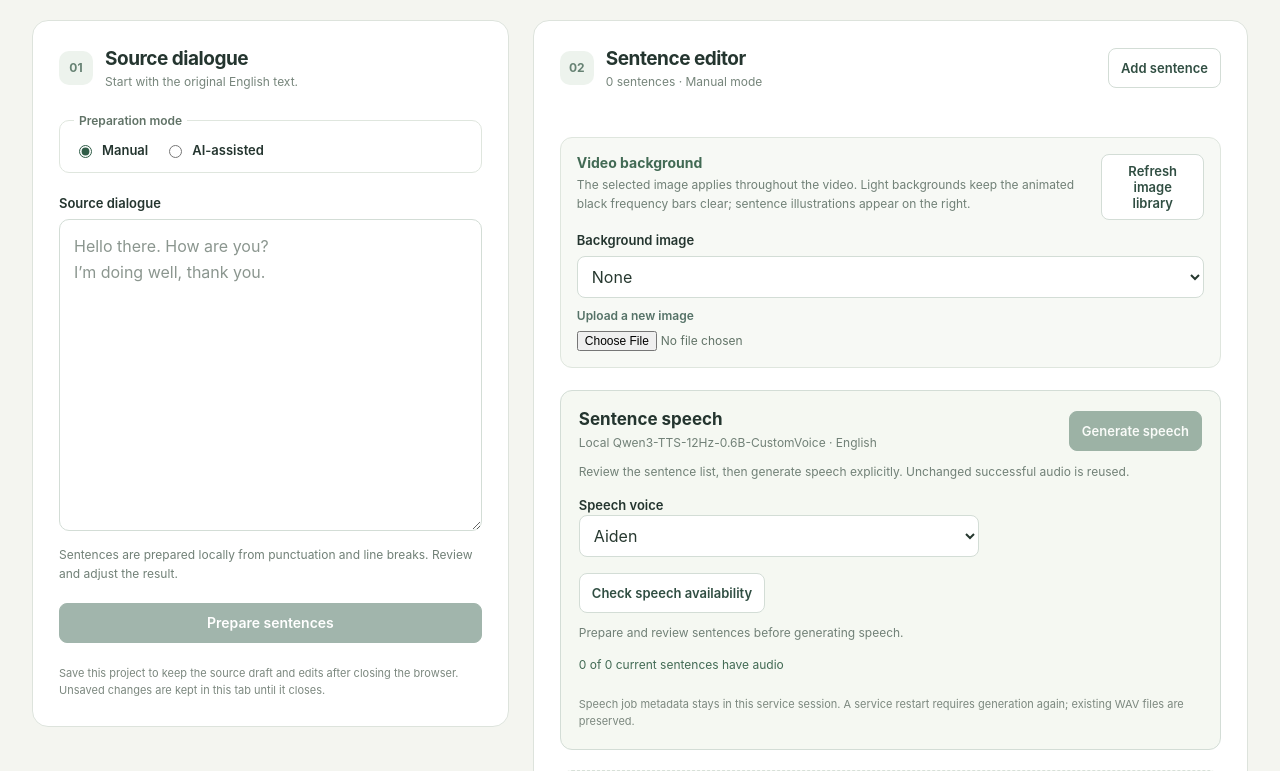
it: sentence speech UI › keeps an unconfirmed project submission resumable and ignores its late result
(page scrolled)
Step 1. Type "Hello. Next." into the text box labelled "Source dialogue" → (270, 375), box [59,219,482,530]
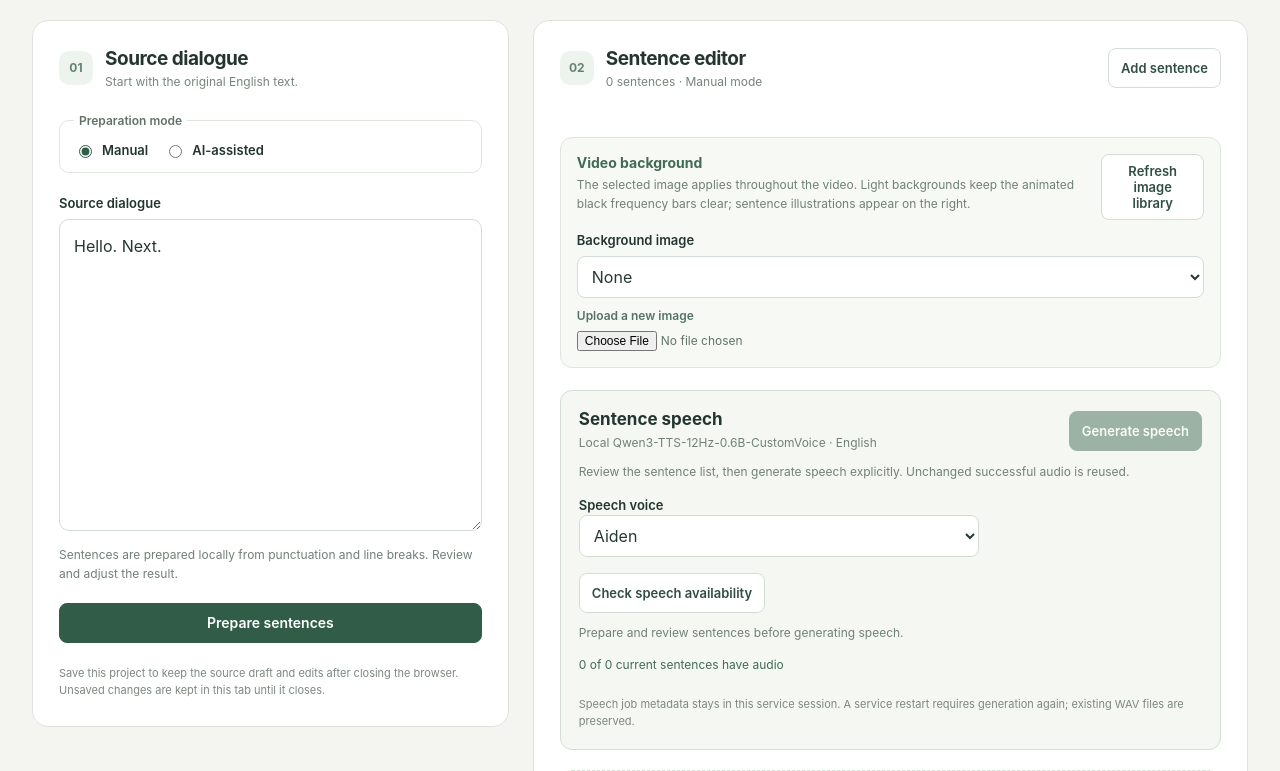
Step 2. Click the button "Prepare sentences" → (270, 623), box [59,603,482,643]
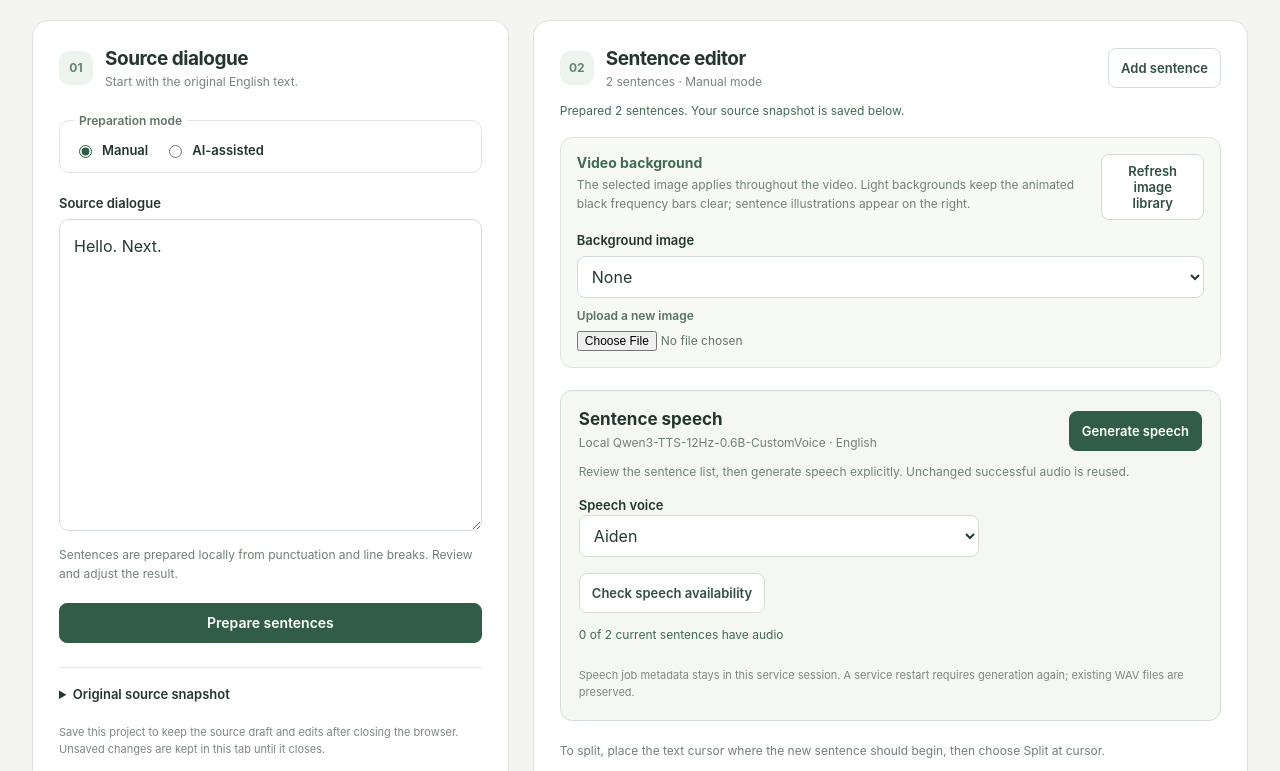
Step 3. Click the button "Generate speech" → (1135, 431), box [1069,411,1202,451]
(page scrolled)
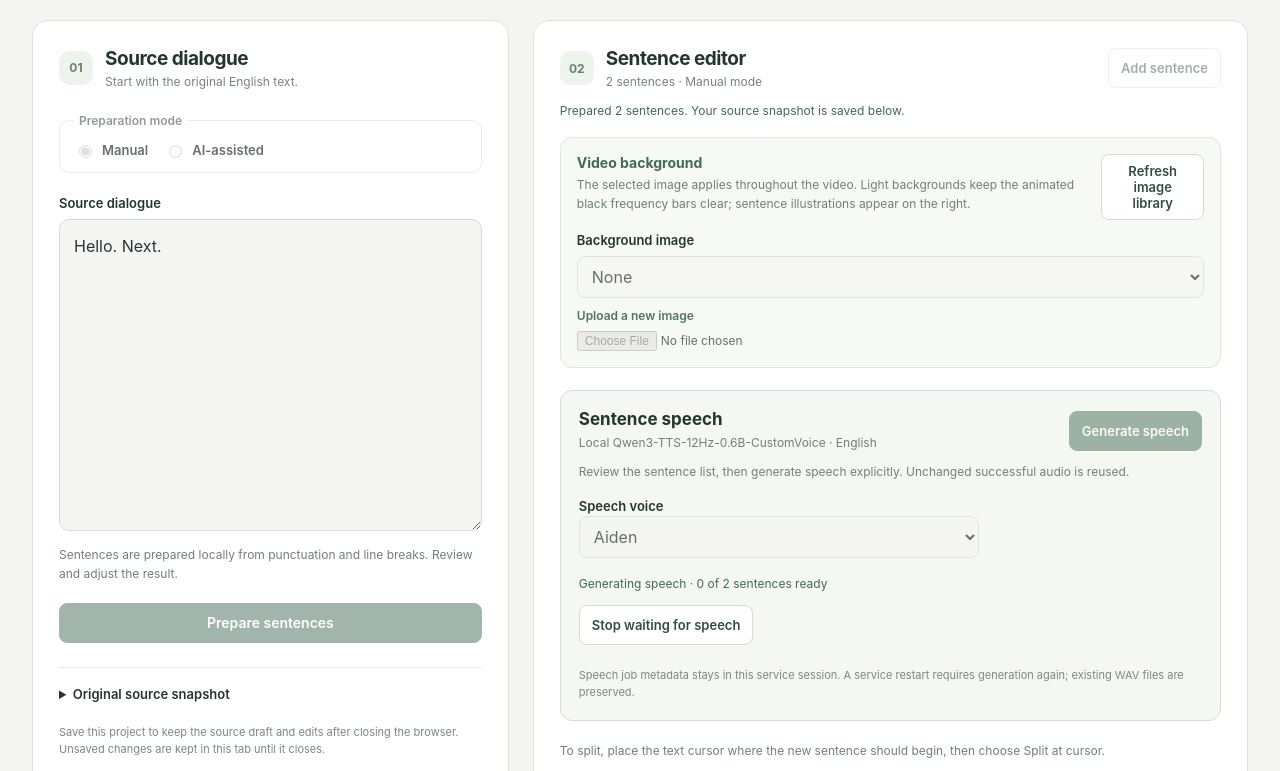
Step 4. Click the button "Stop waiting for speech" → (666, 625), box [579,605,753,645]
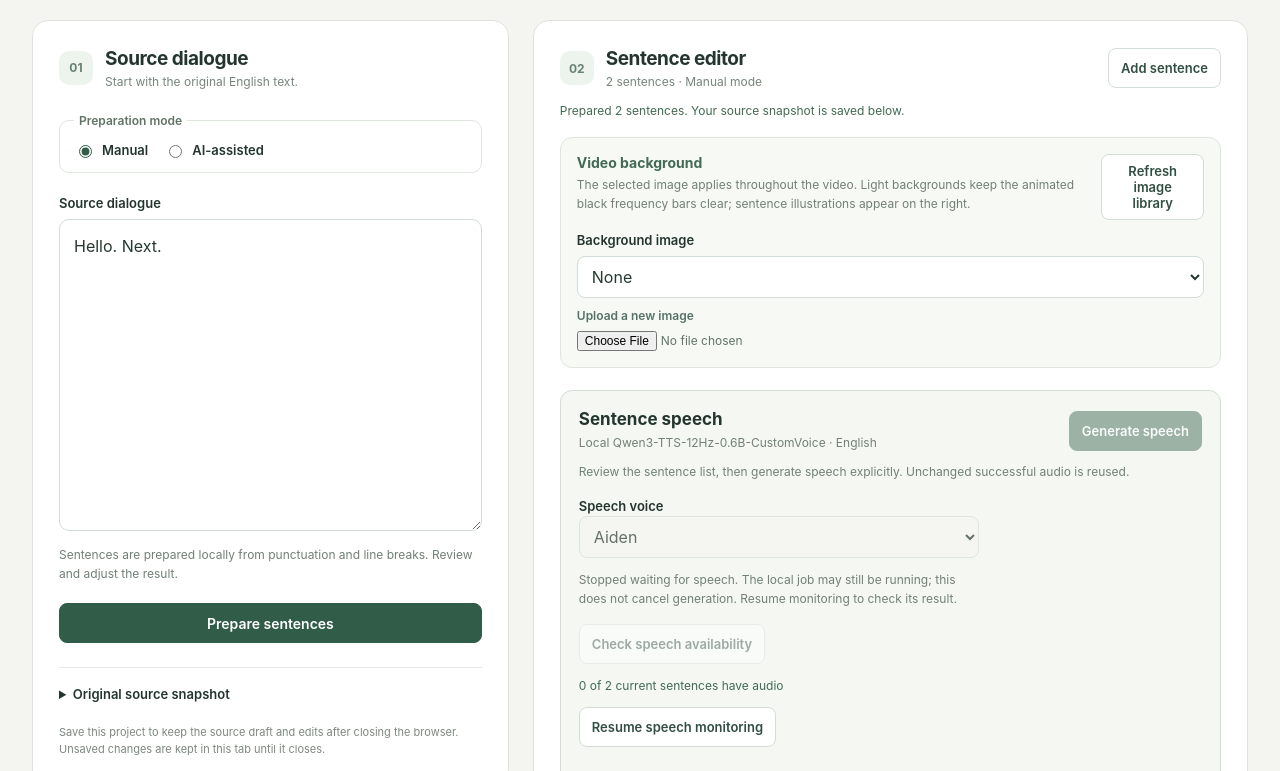
Expected: the button "Generate speech" is disabled, [1069,411,1202,451]
Expected: the text "does not cancel generation" is shown, [579,572,957,606]
Expected: the button "Resume speech monitoring" is shown, [579,707,776,747]
